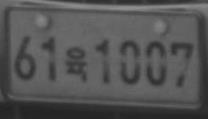0: (145, 40, 167, 85), (118, 40, 140, 83)
1: (92, 39, 115, 83), (39, 36, 61, 81)
6: (13, 35, 36, 79)
7: (171, 41, 194, 87)
육: (64, 46, 88, 82)
